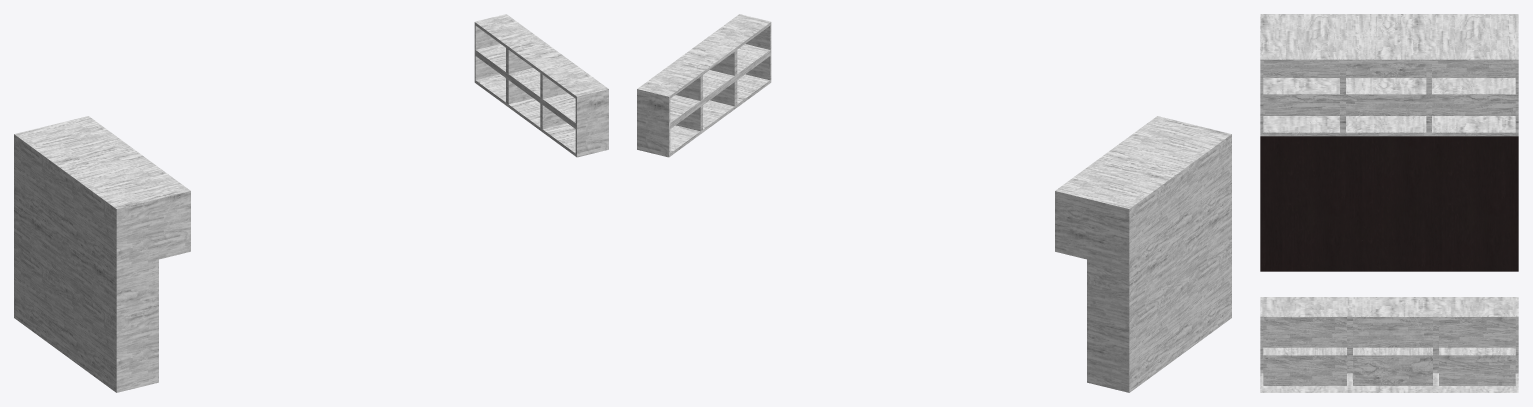
Rendered from FP326:Bookcase_ae93ed57.obj.
3 views of the same model, side by side, from view 1: azimuth 30°, elevation 25°; view 2: azimuth 150°, elevation 25°; view 3: azimuth 270°, elevation 25° (orthographic). The views are drawn at different scales.
Visible parts, largest first — view 1: FP326:Bookcase_ae93ed57; view 2: FP326:Bookcase_ae93ed57; view 3: FP326:Bookcase_ae93ed57.
Part boxes in pixels (x1,y1,x2,y2): FP326:Bookcase_ae93ed57: [14, 14, 608, 392]; FP326:Bookcase_ae93ed57: [637, 14, 1231, 392]; FP326:Bookcase_ae93ed57: [1260, 14, 1518, 392].
Bounding box in the file's own units: 4.62 × 1.65 × 1.67.
